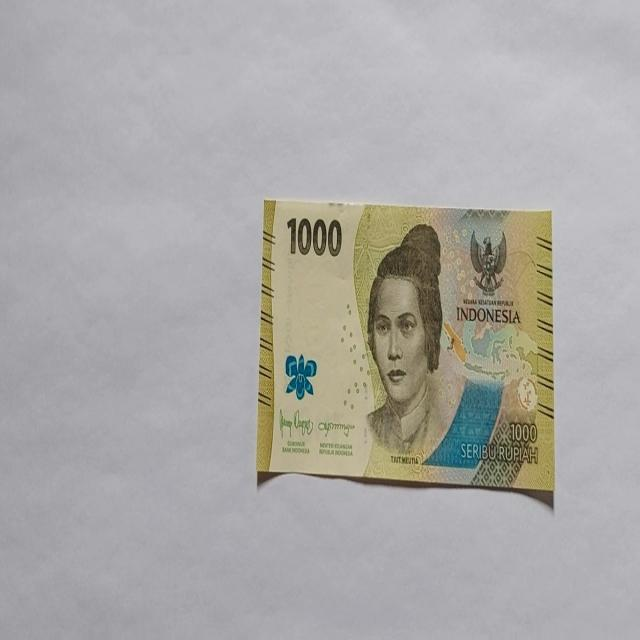seribu rupiah kertas: (256, 197, 554, 499)
